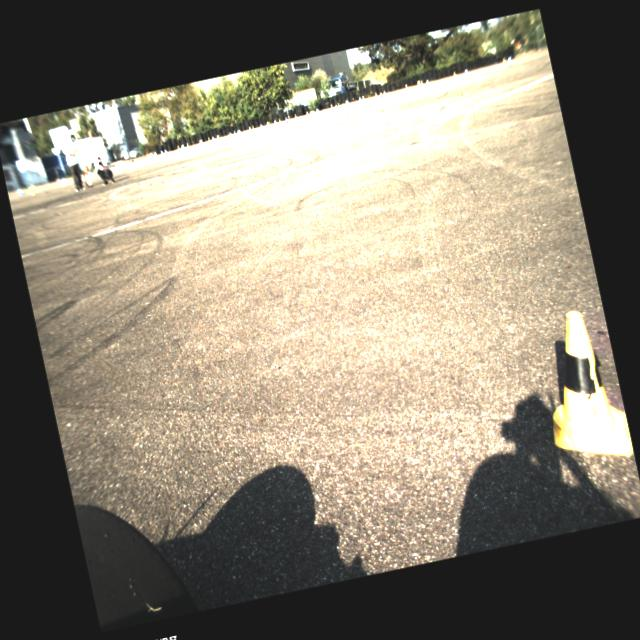yellow_cone: (528, 304, 634, 470)
